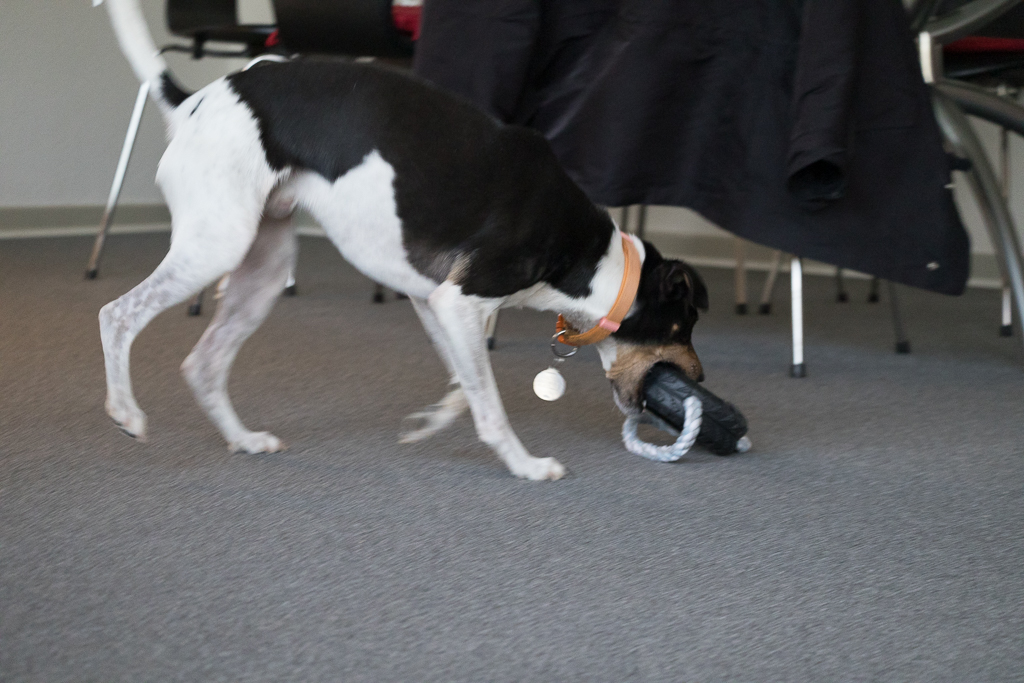Dog: (85, 0, 718, 493)
